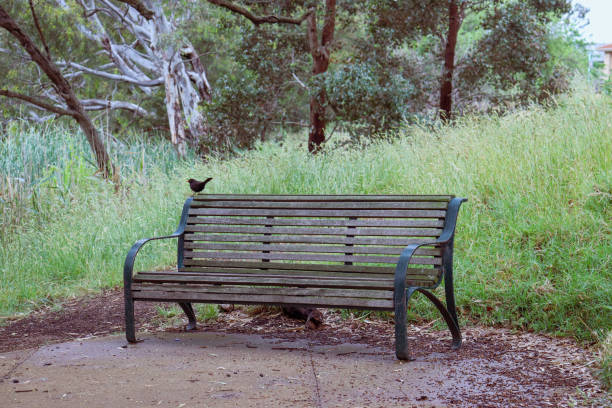bench: (117, 190, 466, 362)
